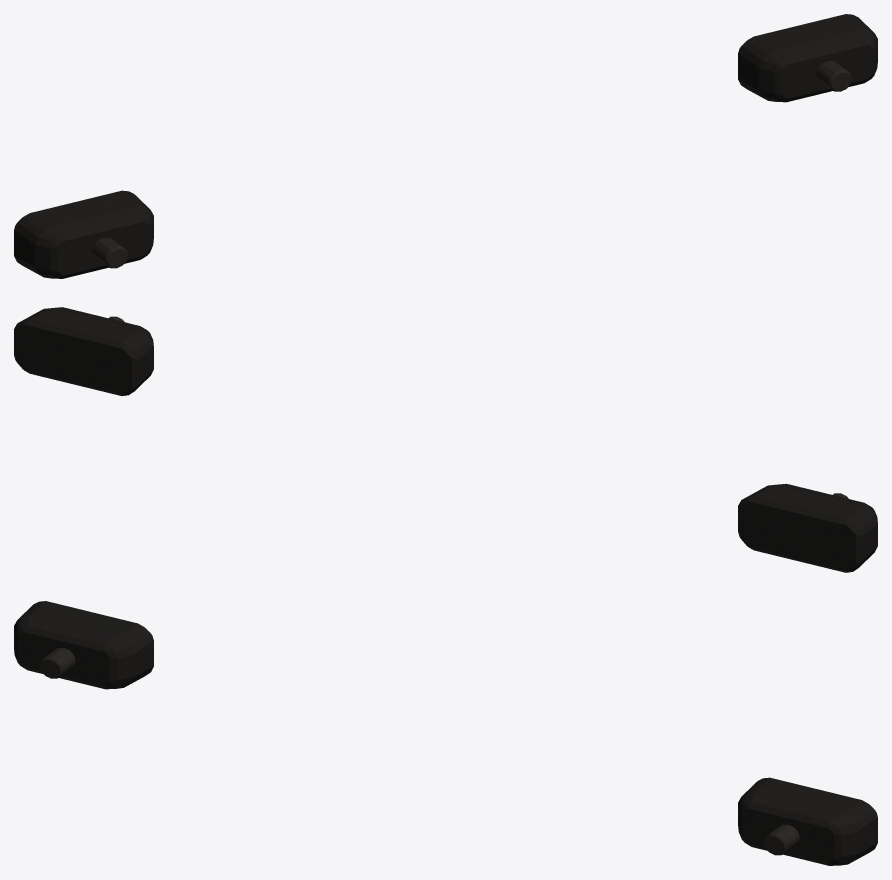
File: turret_sockets.obj
3 views of the same model, one above another, from view 1: azimuth 30°, elevation 25°; view 2: azimuth 150°, elevation 25°; view 3: azimuth 330°, elevation 25° (orthographic).
Visible parts, largest first — view 1: turret_sockets; view 2: turret_sockets; view 3: turret_sockets.
Part boxes in pixels (box(x1,y1,x2,y2)): turret_sockets: box(14, 14, 877, 278); turret_sockets: box(14, 307, 877, 572); turret_sockets: box(14, 601, 877, 865).
Size of the model in its own units: 4.54 by 0.2756 by 0.408.
Materials: 1 (1 with a texture image).
